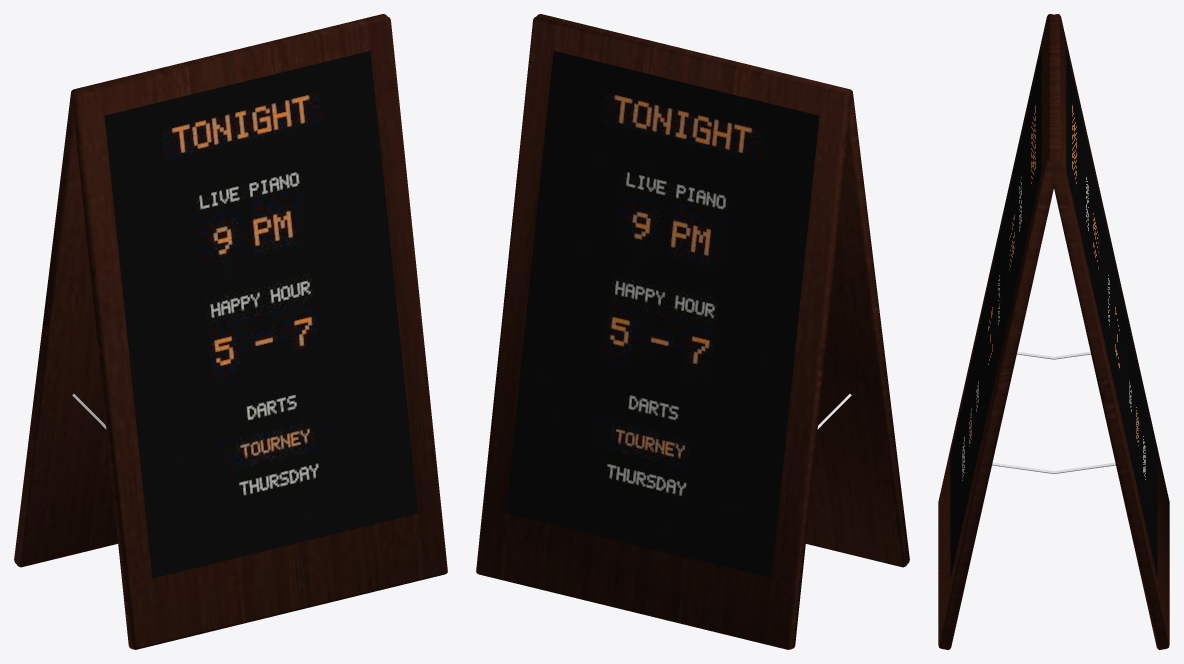
File: chalk_a_frame.glb
3 renders of one model, left to right at view 1: azimuth 30°, elevation 25°; view 2: azimuth 150°, elevation 25°; view 3: azimuth 270°, elevation 25°, orthographic. The views are drawn at different scales.
Visible parts, largest first — view 1: A-frame chalk, Prop wood; view 2: A-frame chalk, Prop wood; view 3: Prop wood, A-frame chalk, Stainless.
Part boxes in pixels (x1,y1,x2,y2): A-frame chalk: [104, 51, 418, 578]; Prop wood: [14, 14, 447, 649]; A-frame chalk: [505, 51, 819, 578]; Prop wood: [476, 14, 909, 649]; Prop wood: [938, 14, 1169, 649]; A-frame chalk: [950, 49, 1157, 578]; Stainless: [992, 351, 1115, 473].
Size of the model in its own units: 0.64 by 1 by 0.4266.
4 materials, 2 textured.
